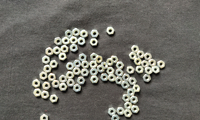nut: (41, 91, 50, 100), (42, 82, 51, 91), (59, 75, 68, 84), (50, 95, 59, 103), (40, 72, 48, 81), (44, 65, 52, 74), (42, 56, 50, 65), (46, 47, 54, 56), (61, 45, 69, 54), (62, 37, 70, 46), (78, 37, 86, 46), (73, 84, 81, 93), (77, 77, 86, 85), (131, 106, 140, 114), (123, 94, 131, 103), (127, 89, 136, 97), (116, 62, 125, 70), (143, 75, 152, 83), (34, 89, 42, 97), (32, 80, 40, 88), (48, 74, 56, 82), (52, 80, 60, 88), (50, 61, 58, 69), (54, 38, 62, 46), (59, 53, 67, 61), (65, 30, 73, 38), (70, 44, 78, 52), (70, 36, 78, 44), (80, 30, 88, 38), (91, 30, 99, 38), (107, 27, 115, 35), (59, 83, 67, 91), (67, 79, 75, 87), (73, 68, 81, 76), (74, 60, 82, 68), (81, 69, 89, 77), (82, 61, 90, 69), (79, 54, 87, 62), (91, 76, 99, 84), (90, 61, 98, 69), (101, 74, 109, 82), (107, 58, 115, 66), (111, 56, 119, 64), (107, 67, 115, 75), (116, 77, 124, 85), (108, 108, 116, 116), (117, 108, 125, 116), (124, 110, 132, 118), (125, 102, 133, 110), (133, 85, 141, 93), (116, 69, 124, 77), (123, 74, 131, 82), (127, 67, 135, 75), (136, 66, 144, 74), (134, 58, 142, 66), (132, 45, 140, 53), (145, 53, 153, 61), (145, 67, 153, 75), (149, 59, 157, 67), (158, 61, 166, 69), (73, 28, 80, 37), (66, 72, 75, 79), (66, 63, 75, 70), (54, 47, 61, 55), (90, 39, 98, 46), (90, 69, 98, 76), (91, 53, 98, 61), (98, 65, 105, 73), (108, 75, 116, 82), (131, 96, 138, 104), (122, 82, 130, 89), (129, 78, 137, 85), (130, 52, 137, 60), (137, 51, 145, 58), (142, 61, 150, 68), (153, 66, 160, 74), (96, 56, 103, 63), (101, 63, 108, 70), (40, 115, 49, 120), (112, 115, 120, 120)
